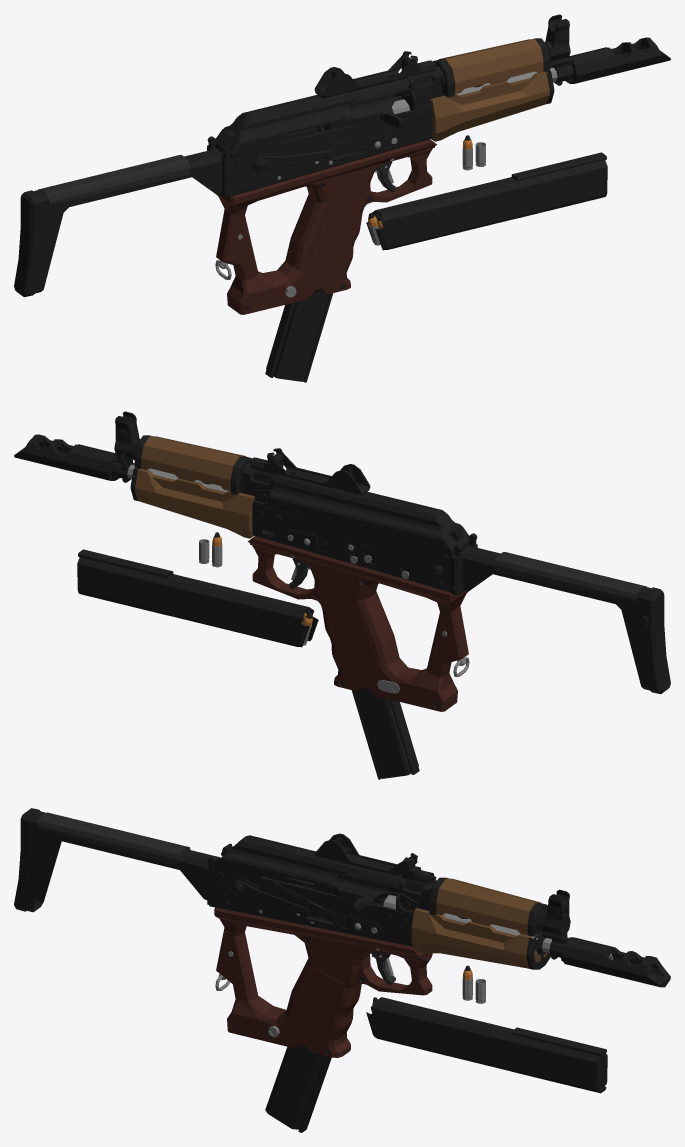
The model's file is low-poly_gepard_smg.glb.
The picture shows the model from 3 angles, top to bottom: view 1: azimuth 30°, elevation 25°; view 2: azimuth 150°, elevation 25°; view 3: azimuth 330°, elevation 25°; orthographic projection.
Parts seen in each view (by area): view 1: gepard receiver_6, 921g gepard 40rnd mag_11, gepard stock_7, gepard handguard_5, gepard dust cover_4, 921g gepard 40rnd empty mag_10, 921g gepard barrel_2, 921g gepard compensator_13, gepard selector_0, 921g gepard bolt carrier_3; view 2: gepard receiver_6, 921g gepard 40rnd mag_11, gepard dust cover_4, gepard stock_7, gepard handguard_5, 921g gepard 40rnd empty mag_10, 921g gepard barrel_2, 921g gepard compensator_13; view 3: gepard receiver_6, 921g gepard 40rnd mag_11, gepard stock_7, gepard handguard_5, gepard dust cover_4, 921g gepard 40rnd empty mag_10, 921g gepard barrel_2, 921g gepard compensator_13, gepard selector_0, 921g gepard bolt carrier_3.
Part boxes in pixels (x1=…): gepard receiver_6: x1=207, y1=56, x2=444, y2=314; 921g gepard 40rnd mag_11: x1=366, y1=152, x2=607, y2=250; gepard stock_7: x1=14, y1=150, x2=222, y2=297; gepard handguard_5: x1=430, y1=39, x2=549, y2=141; gepard dust cover_4: x1=215, y1=51, x2=417, y2=158; 921g gepard 40rnd empty mag_10: x1=265, y1=291, x2=332, y2=382; 921g gepard barrel_2: x1=391, y1=14, x2=575, y2=114; 921g gepard compensator_13: x1=569, y1=37, x2=670, y2=83; gepard selector_0: x1=250, y1=141, x2=358, y2=174; 921g gepard bolt carrier_3: x1=317, y1=82, x2=441, y2=132; gepard receiver_6: x1=240, y1=453, x2=477, y2=711; 921g gepard 40rnd mag_11: x1=77, y1=549, x2=318, y2=647; gepard dust cover_4: x1=267, y1=448, x2=469, y2=555; gepard stock_7: x1=451, y1=547, x2=670, y2=694; gepard handguard_5: x1=135, y1=436, x2=254, y2=538; 921g gepard 40rnd empty mag_10: x1=352, y1=688, x2=419, y2=779; 921g gepard barrel_2: x1=109, y1=411, x2=252, y2=500; 921g gepard compensator_13: x1=14, y1=434, x2=117, y2=480; gepard receiver_6: x1=207, y1=843, x2=436, y2=1057; 921g gepard 40rnd mag_11: x1=366, y1=997, x2=607, y2=1093; gepard stock_7: x1=14, y1=808, x2=219, y2=912; gepard handguard_5: x1=411, y1=878, x2=547, y2=968; gepard dust cover_4: x1=213, y1=833, x2=417, y2=885; 921g gepard 40rnd empty mag_10: x1=265, y1=1045, x2=331, y2=1132; 921g gepard barrel_2: x1=383, y1=877, x2=613, y2=969; 921g gepard compensator_13: x1=562, y1=937, x2=670, y2=987; gepard selector_0: x1=230, y1=877, x2=336, y2=925; 921g gepard bolt carrier_3: x1=314, y1=872, x2=398, y2=913.
Size of the model in its own units: 6.84 by 3.05 by 0.6541.
